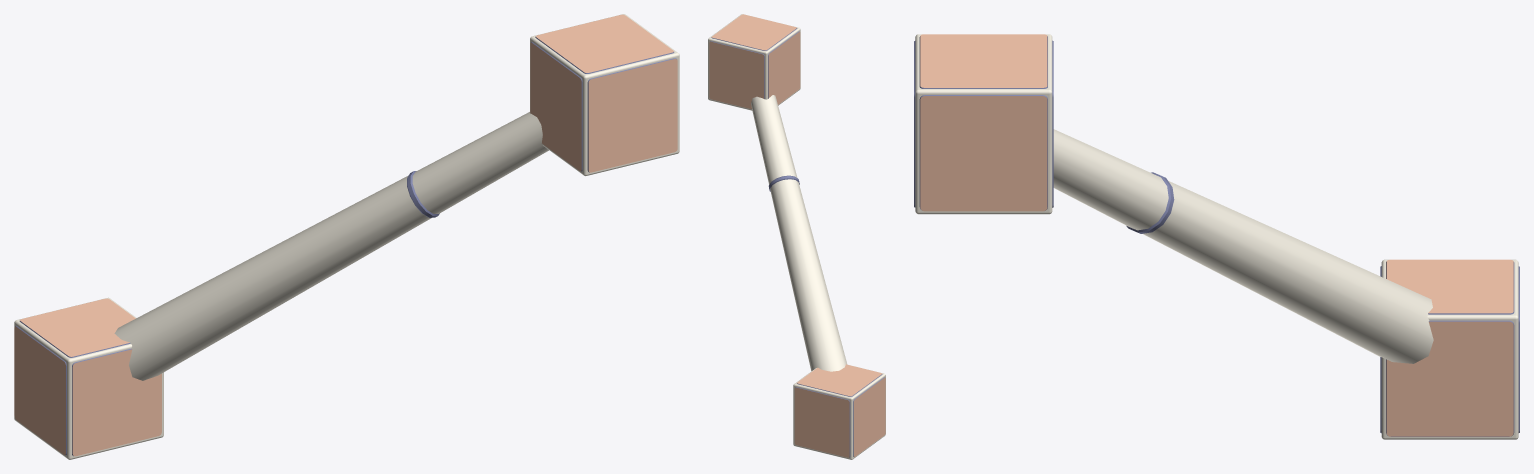
The model's file is R4C_ROD_DIAG_3D.fbx.
3 renders of one model, left to right at view 1: azimuth 30°, elevation 25°; view 2: azimuth 150°, elevation 25°; view 3: azimuth 270°, elevation 25°, orthographic. The views are drawn at different scales.
Visible parts, largest first — view 1: R4C_ROD_DIAG_3D; view 2: R4C_ROD_DIAG_3D; view 3: R4C_ROD_DIAG_3D.
Boxes of the visible parts, x1=… form: R4C_ROD_DIAG_3D: x1=14, y1=14, x2=679, y2=459; R4C_ROD_DIAG_3D: x1=708, y1=14, x2=885, y2=459; R4C_ROD_DIAG_3D: x1=914, y1=34, x2=1519, y2=439.
Size of the model in its own units: 1.62 by 1.62 by 1.62.
